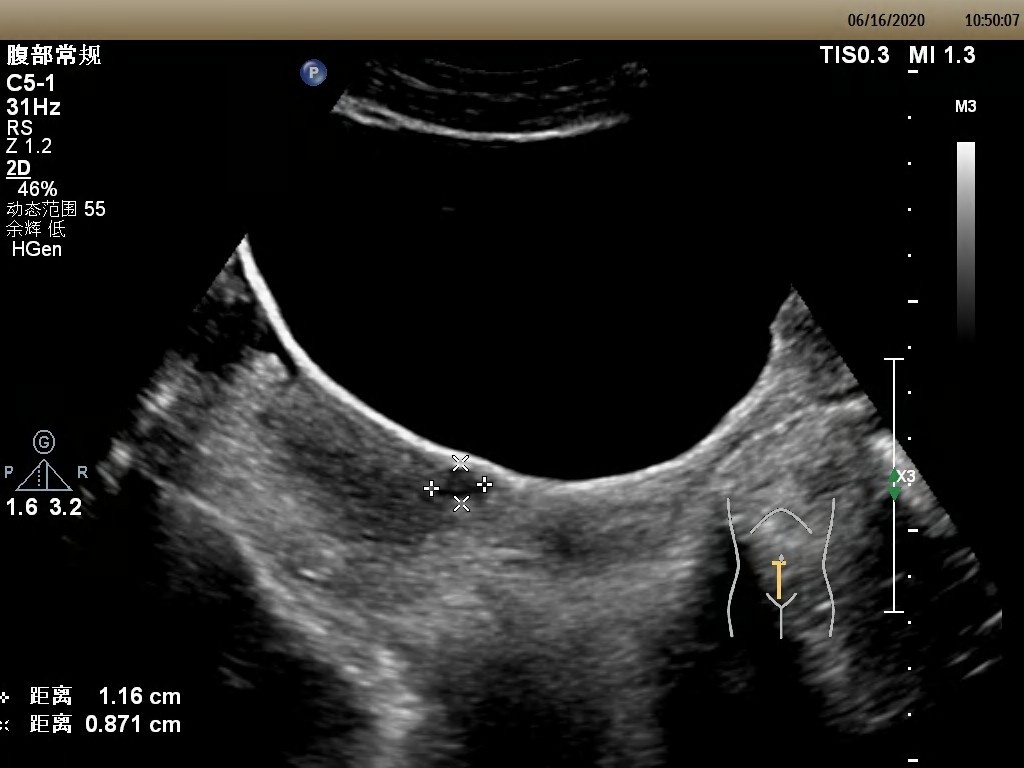肌瘤: (432, 467, 483, 502)
